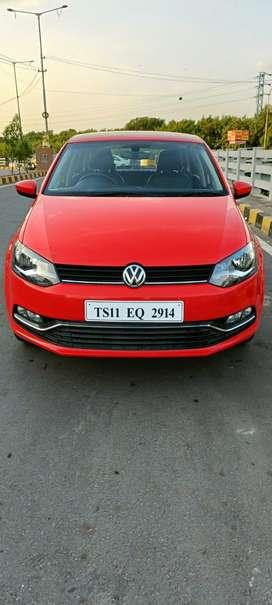TS11EQ2914: (83, 299, 181, 321)
